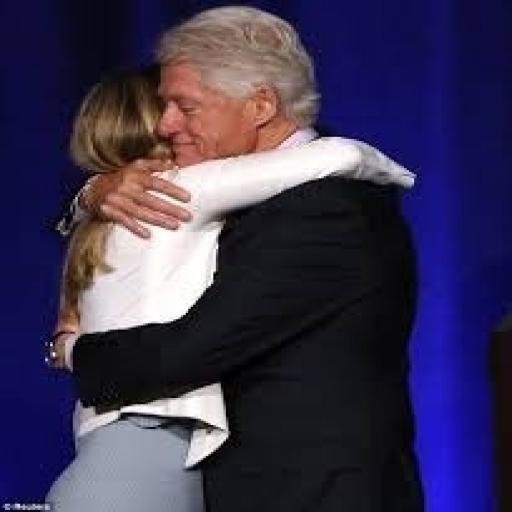hugging: (38, 4, 426, 510)
